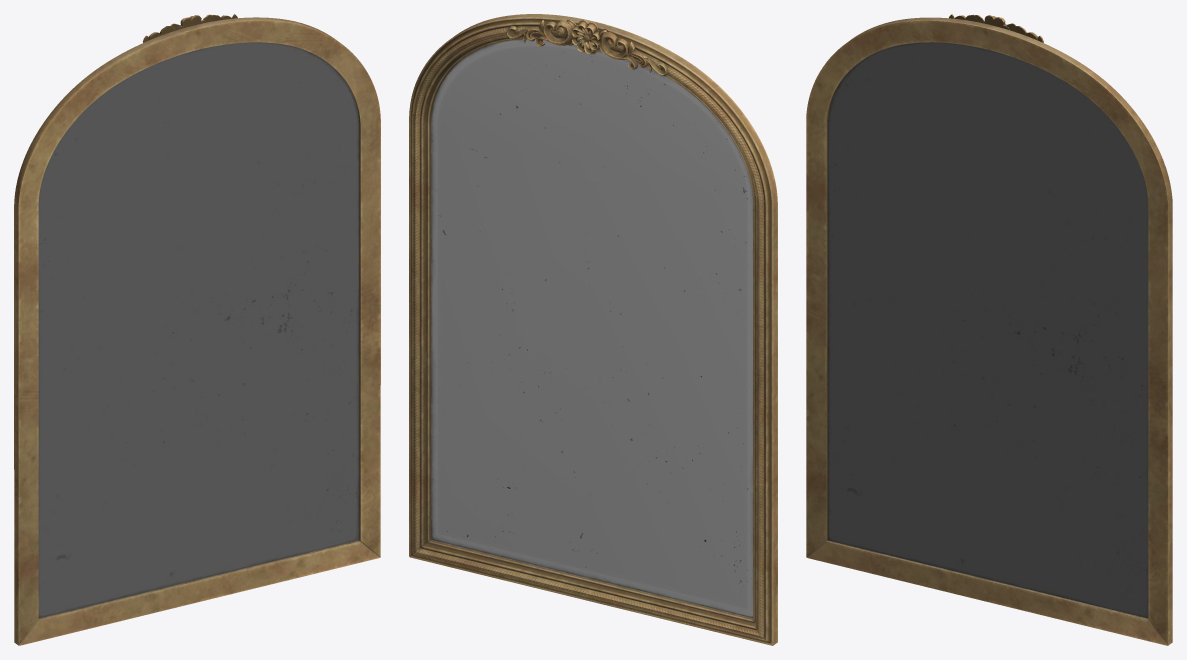
File: mirror-ornate-wall.glb
3 renders of one model, left to right at view 1: azimuth 30°, elevation 25°; view 2: azimuth 150°, elevation 25°; view 3: azimuth 330°, elevation 25°, orthographic.
Visible parts, largest first — view 1: mirror-ornate-wall; view 2: mirror-ornate-wall; view 3: mirror-ornate-wall.
Boxes of the visible parts, <box> form: mirror-ornate-wall: <box>14,14,380,645</box>; mirror-ornate-wall: <box>409,14,777,645</box>; mirror-ornate-wall: <box>806,14,1172,645</box>.
Size of the model in its own units: 0.4865 by 0.7442 by 0.026.
1 material, 1 textured.
